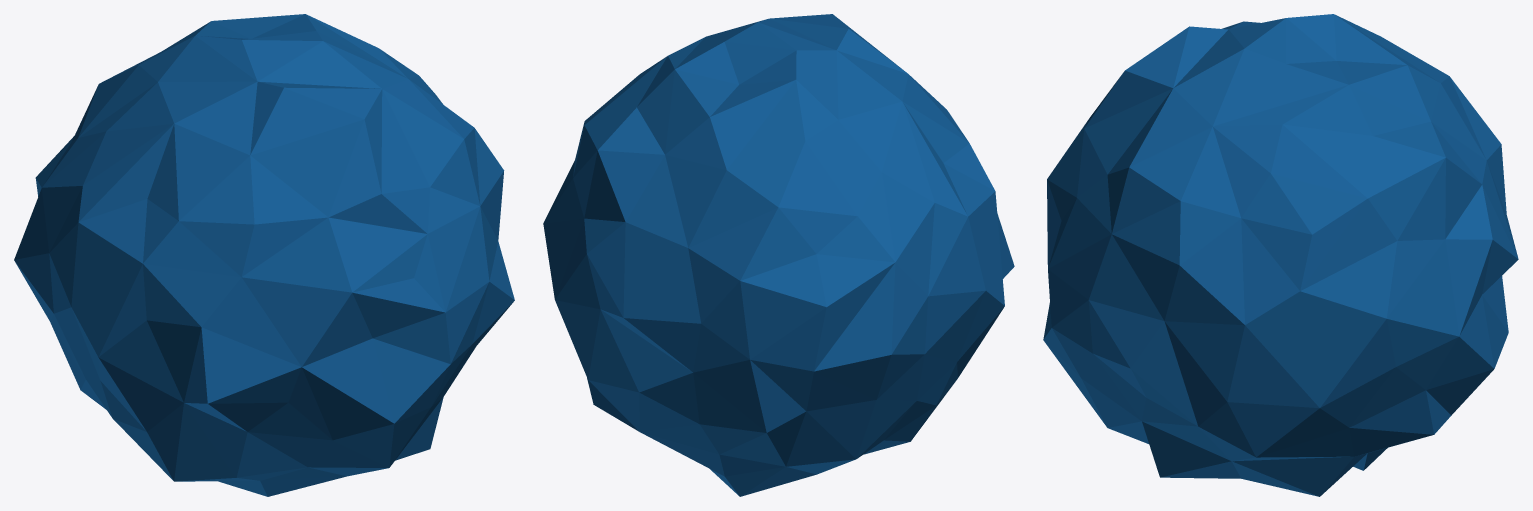
File: water_01.obj
3 renders of one model, left to right at view 1: azimuth 30°, elevation 25°; view 2: azimuth 150°, elevation 25°; view 3: azimuth 270°, elevation 25°, orthographic. The views are drawn at different scales.
Visible parts, largest first — view 1: icy_planet1; view 2: icy_planet1; view 3: icy_planet1.
Boxes of the visible parts, x1,y1,x2,y2 form: icy_planet1: [14, 14, 514, 496]; icy_planet1: [543, 14, 1014, 496]; icy_planet1: [1043, 14, 1518, 496].
Size of the model in its own units: 1.9 by 1.93 by 1.87.
